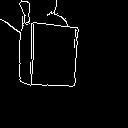cube: (14, 20, 86, 90)
